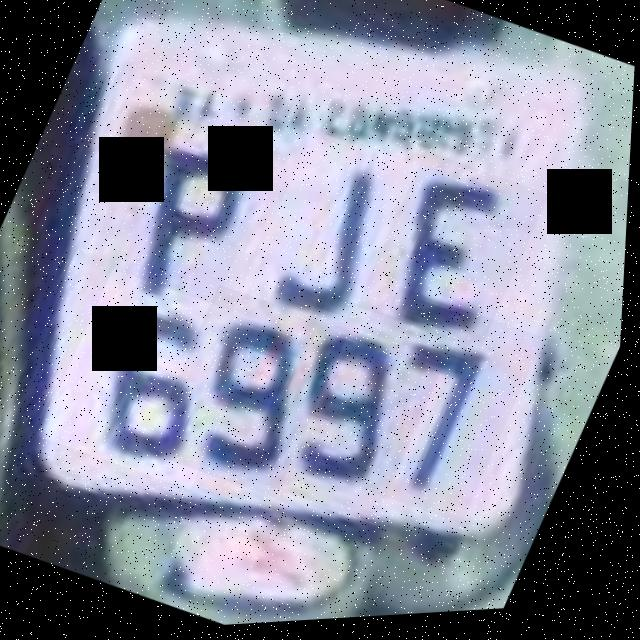6: (40, 263, 270, 499)
7: (318, 284, 550, 537)
9: (242, 288, 461, 534), (147, 281, 355, 507)
E: (358, 150, 553, 362)
J: (234, 127, 438, 364)
P: (92, 110, 285, 336)
